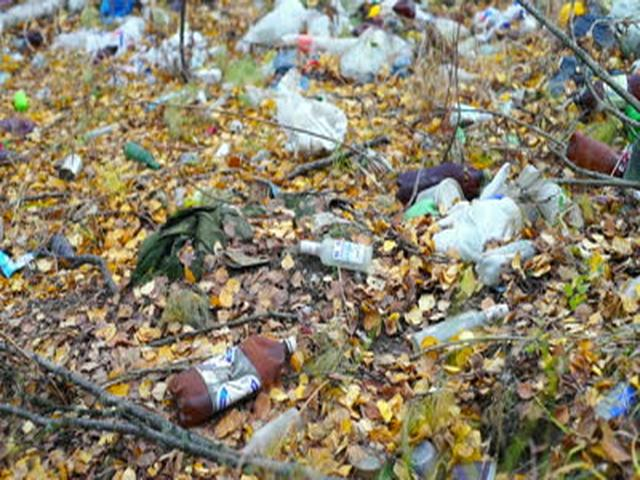garbage: (8, 15, 635, 467)
